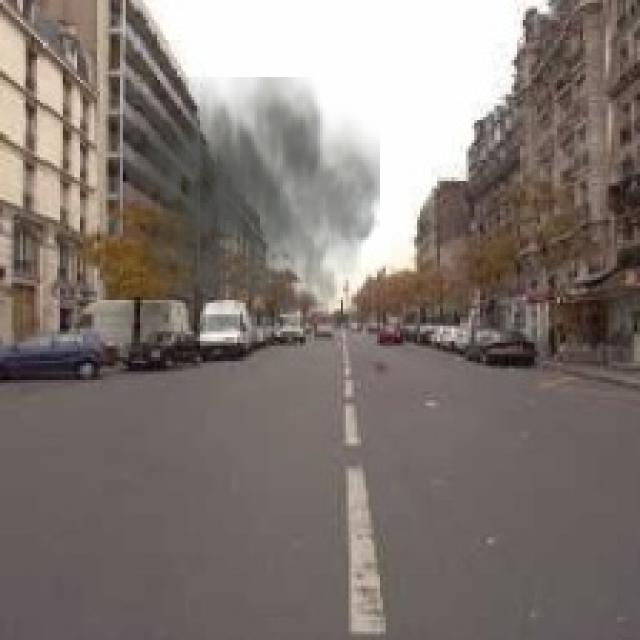smoke: (120, 77, 380, 349)
